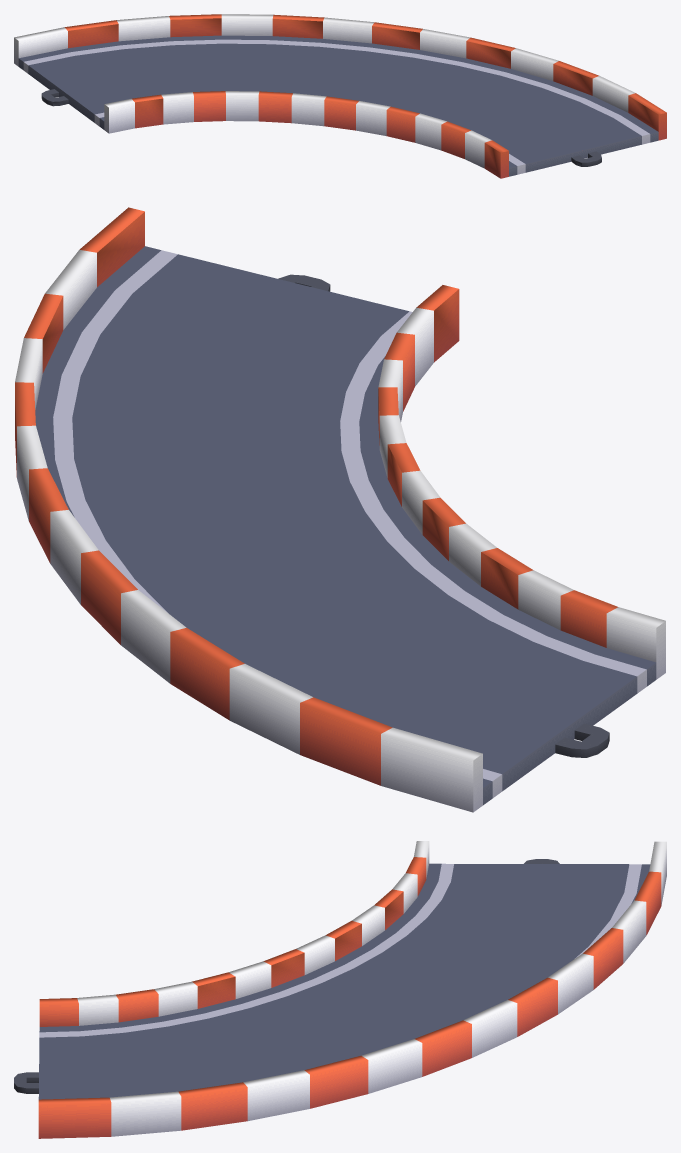
Rendered from track-road-wide-corner-large.004_lev1.glb.
The picture shows the model from 3 angles, top to bottom: view 1: azimuth 30°, elevation 25°; view 2: azimuth 150°, elevation 25°; view 3: azimuth 270°, elevation 25°; orthographic projection. The views are drawn at different scales.
Parts seen in each view (by area): view 1: track-road-wide-corner-large.004_lev1; view 2: track-road-wide-corner-large.004_lev1; view 3: track-road-wide-corner-large.004_lev1.
Part boxes in pixels (x1,y1,x2,y2): track-road-wide-corner-large.004_lev1: (14, 14, 666, 178); track-road-wide-corner-large.004_lev1: (15, 207, 665, 812); track-road-wide-corner-large.004_lev1: (14, 841, 666, 1138).
Size of the model in its own units: 5.18 by 0.3 by 5.22.
Materials: 1 (1 with a texture image).
